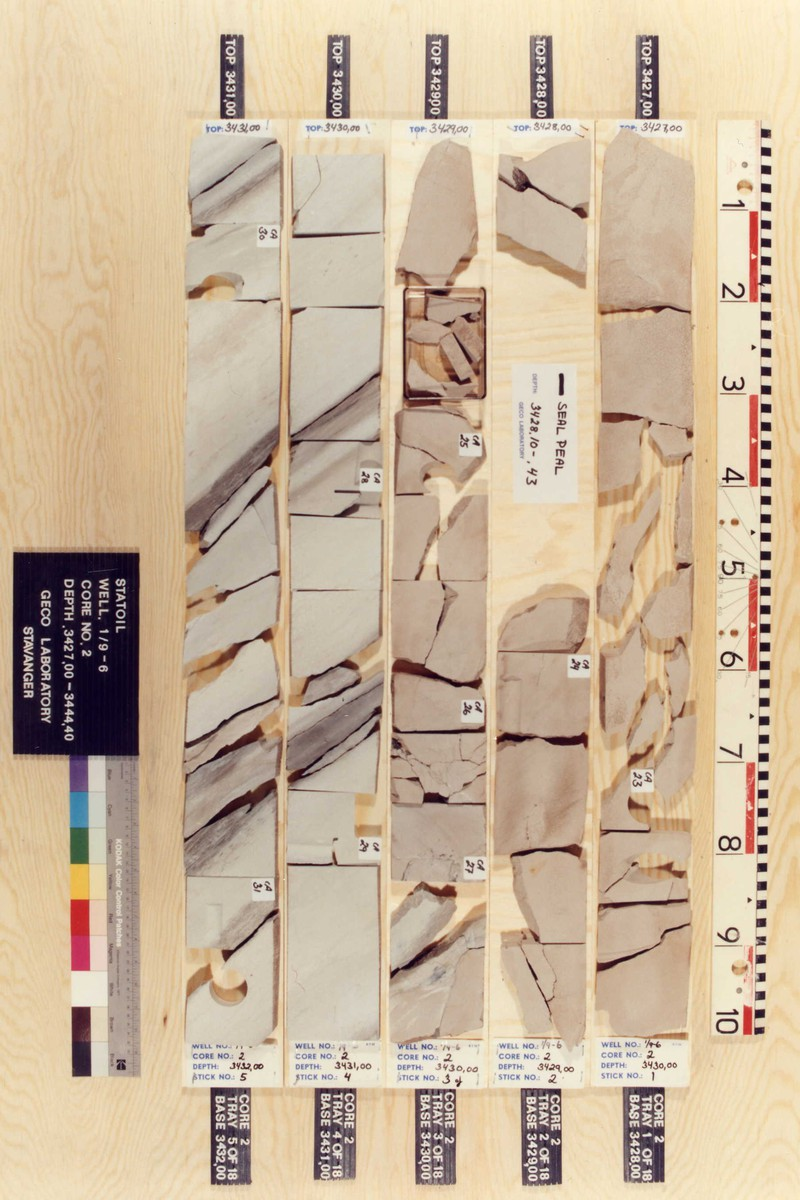core: (599, 130, 694, 1034), (288, 152, 384, 1042), (393, 143, 487, 1045), (189, 136, 281, 1042), (495, 594, 592, 1037), (497, 141, 591, 284)
